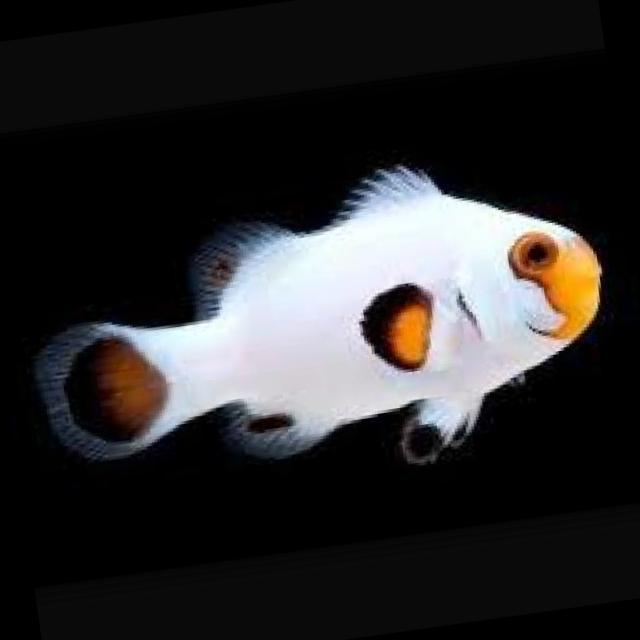ClownFish: (18, 138, 632, 535)
